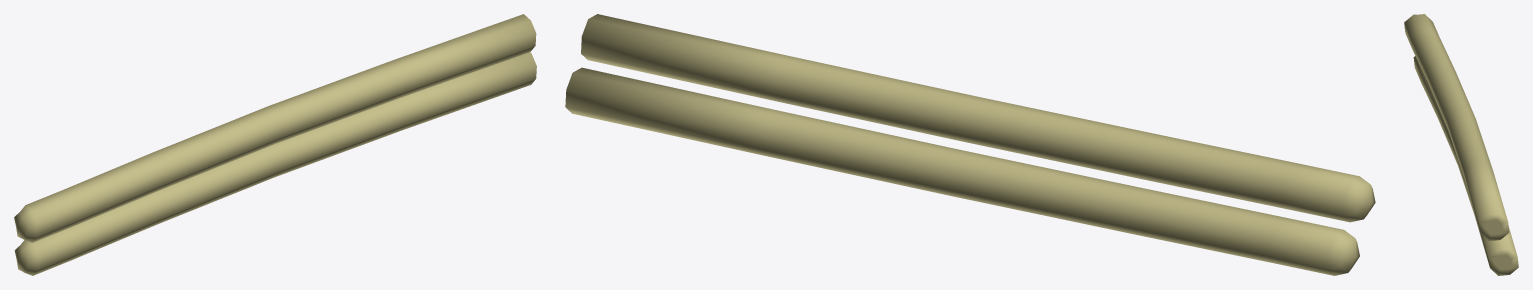
Rendered from Nervio_Glossofaringeo_L.FBX.
The picture shows the model from 3 angles, left to right: view 1: azimuth 30°, elevation 25°; view 2: azimuth 150°, elevation 25°; view 3: azimuth 270°, elevation 25°; orthographic projection. The views are drawn at different scales.
Parts seen in each view (by area): view 1: Nerves_R8; view 2: Nerves_R8; view 3: Nerves_R8.
Boxes of the visible parts, left/top/right/bottom form: Nerves_R8: left=14, top=14, right=536, bottom=275; Nerves_R8: left=565, top=14, right=1375, bottom=275; Nerves_R8: left=1404, top=14, right=1518, bottom=275.
Size of the model in its own units: 0.1583 by 0.0261 by 0.0336.
